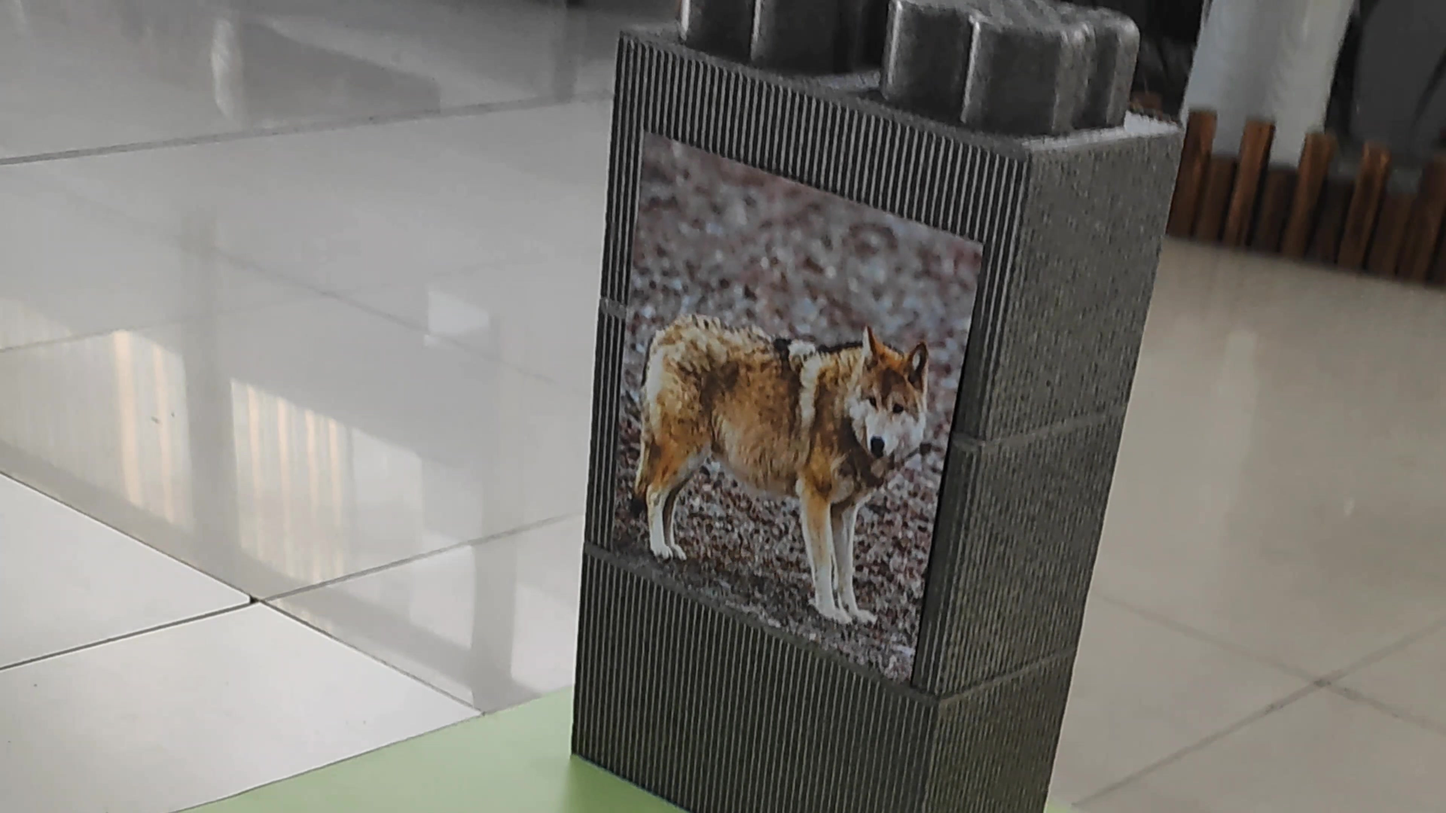wolf: (620, 264, 937, 638)
